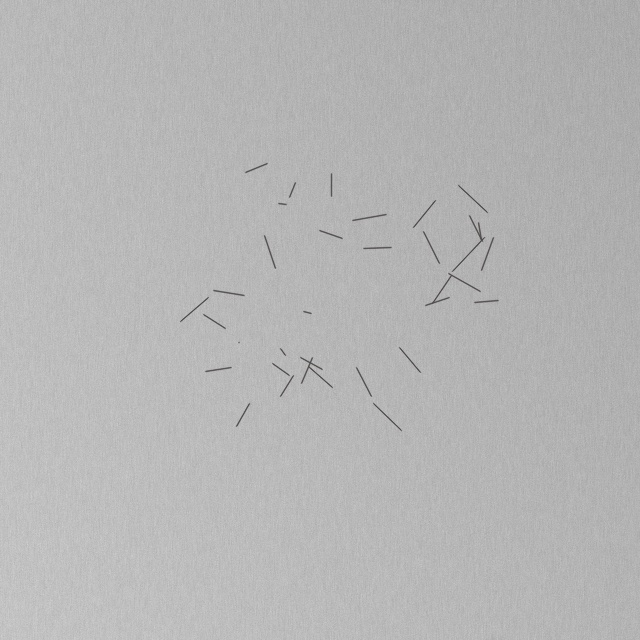water spot: (100, 100, 540, 540)
